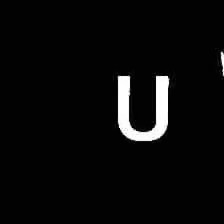LTR_U: (110, 68, 178, 145)
